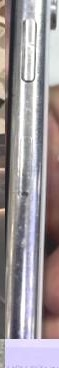scratch: (0, 0, 59, 73)
